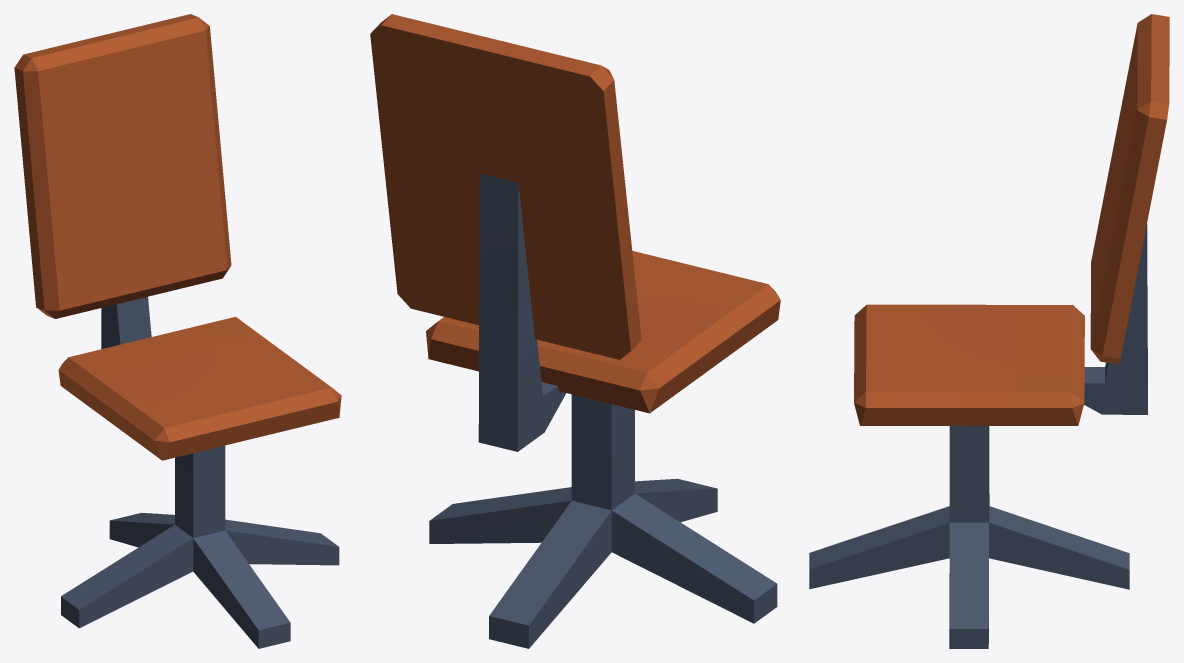
The model's file is office_chair.fbx.
3 views of the same model, side by side, from view 1: azimuth 30°, elevation 25°; view 2: azimuth 150°, elevation 25°; view 3: azimuth 270°, elevation 25° (orthographic). The views are drawn at different scales.
Visible parts, largest first — view 1: office_chair; view 2: office_chair; view 3: office_chair.
Part boxes in pixels (x1=…): office_chair: x1=14, y1=14, x2=341, y2=648; office_chair: x1=370, y1=14, x2=780, y2=648; office_chair: x1=809, y1=14, x2=1169, y2=648.
Size of the model in its own units: 0.4896 by 0.8826 by 0.5507.
